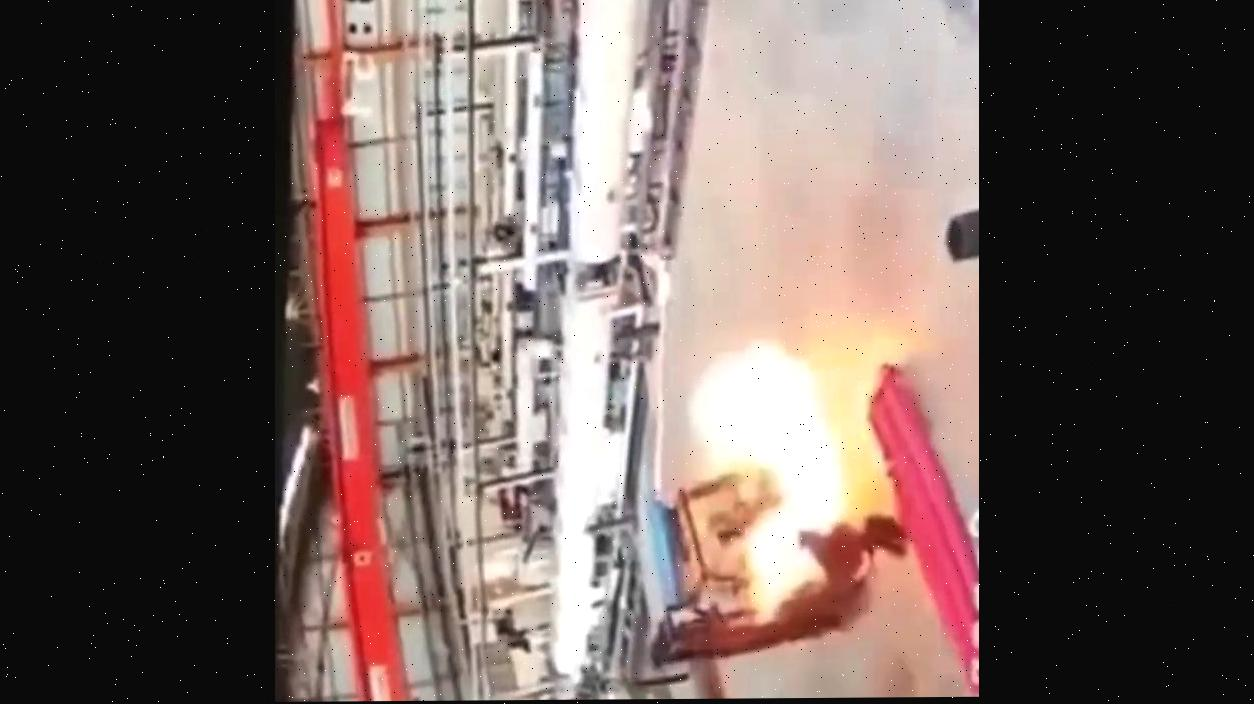fire: (592, 203, 952, 679)
